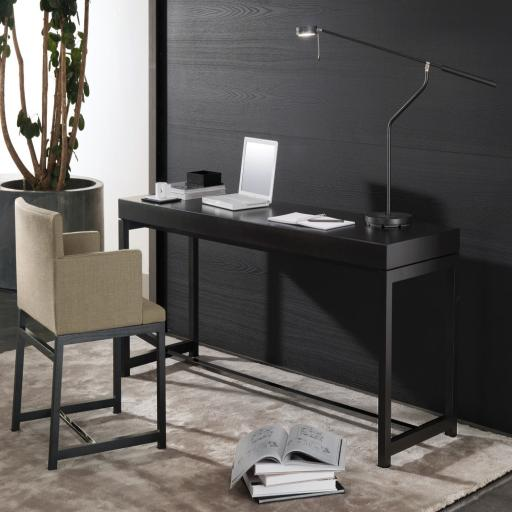chair: (11, 196, 167, 470)
desk: (117, 192, 460, 469)
wall: (163, 0, 512, 438)
